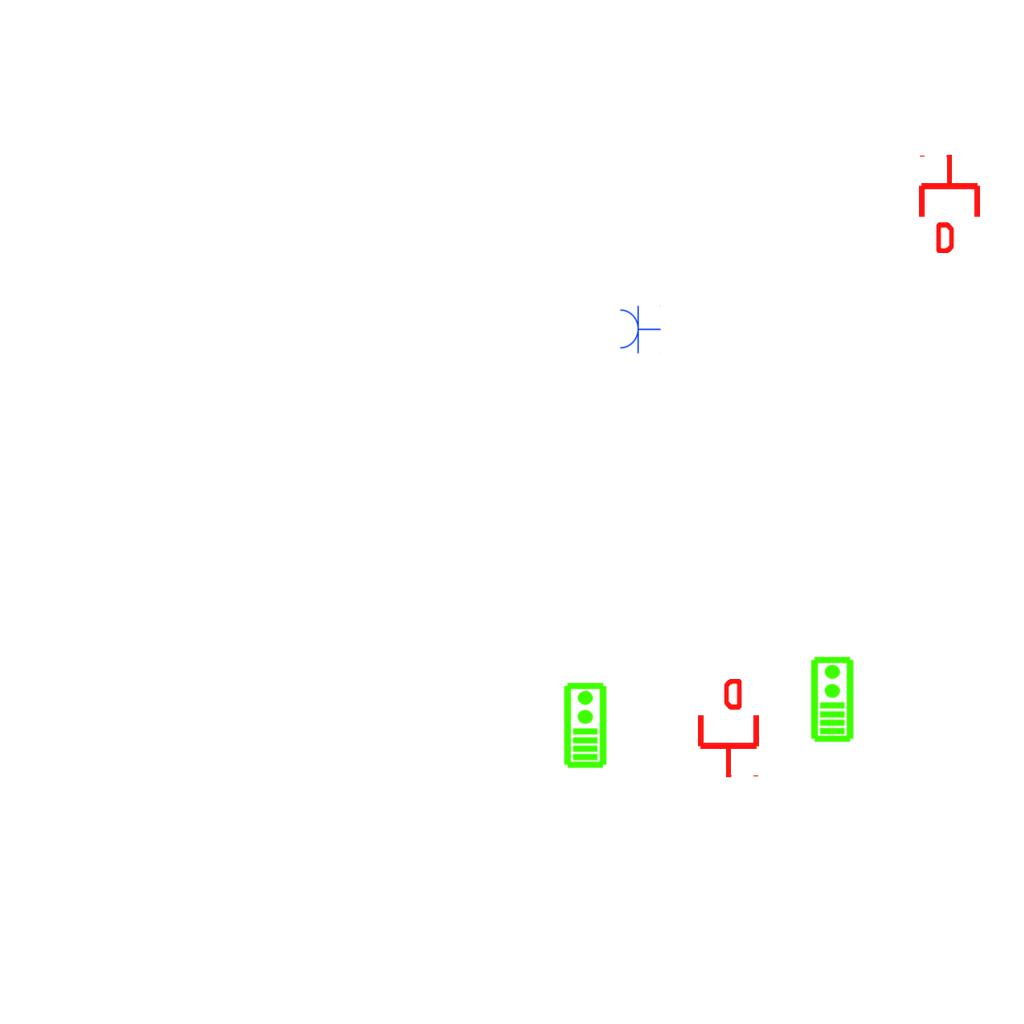Datenanschluss_einfach: (694, 679, 763, 779), (915, 153, 984, 253)
Gegensprechanlage_mit_Video: (561, 681, 608, 769), (808, 655, 855, 743)
Schukosteckdose_einfach: (618, 304, 661, 354)
